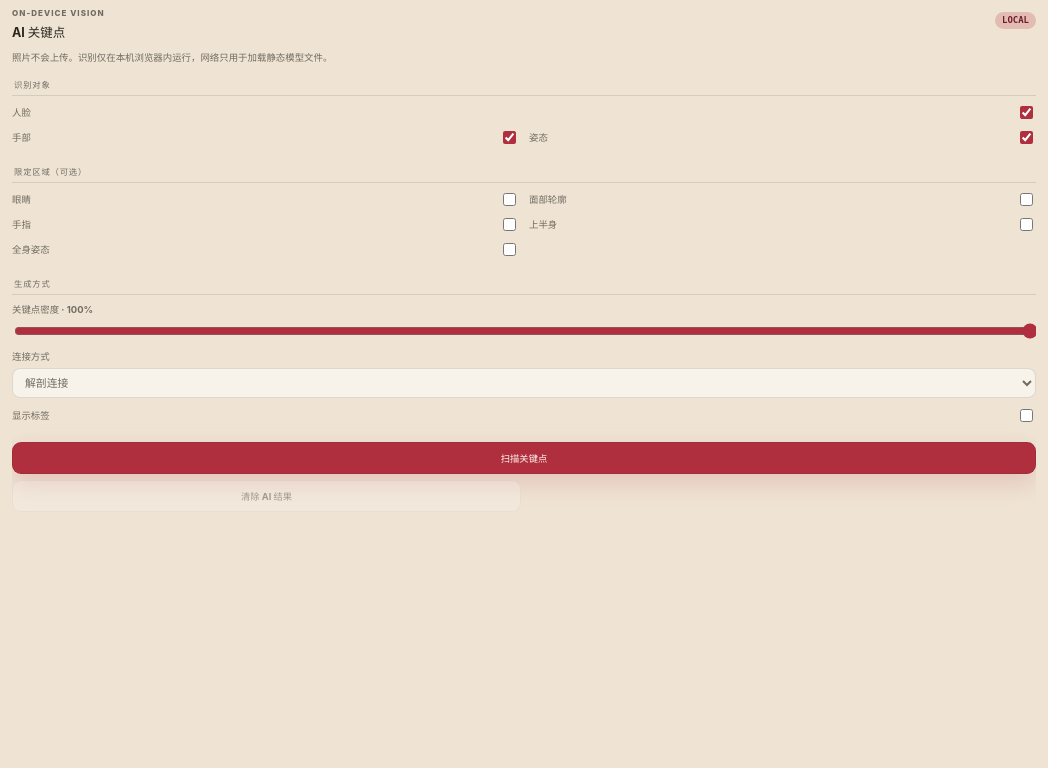
Test case: AI scan panel › shows loading, empty, failure, retry, and clear-result states
Later steps or results of the test are not shown.
Click the button "扫描关键点".
click(524, 458)  # box [12,442,1036,474]
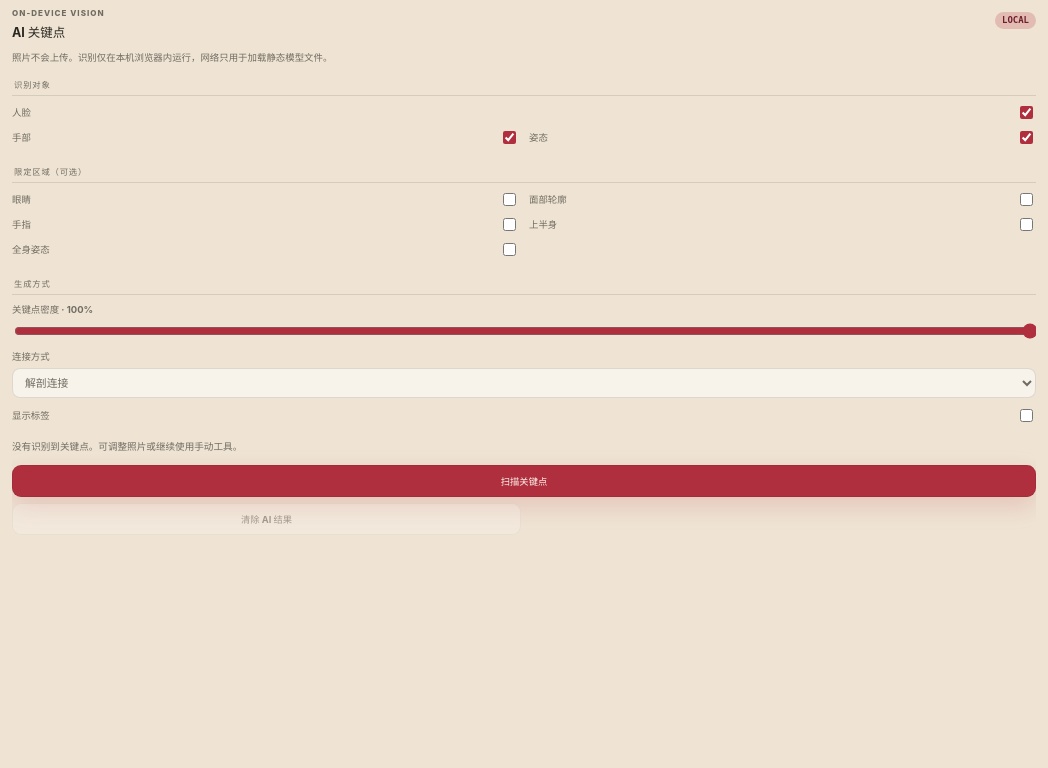
Check: the text "没有识别到关键点。可调整照片或继续使用手动工具。" is shown, box [12,441,242,452]
Click the button "扫描关键点".
click(524, 481)  # box [12,465,1036,497]
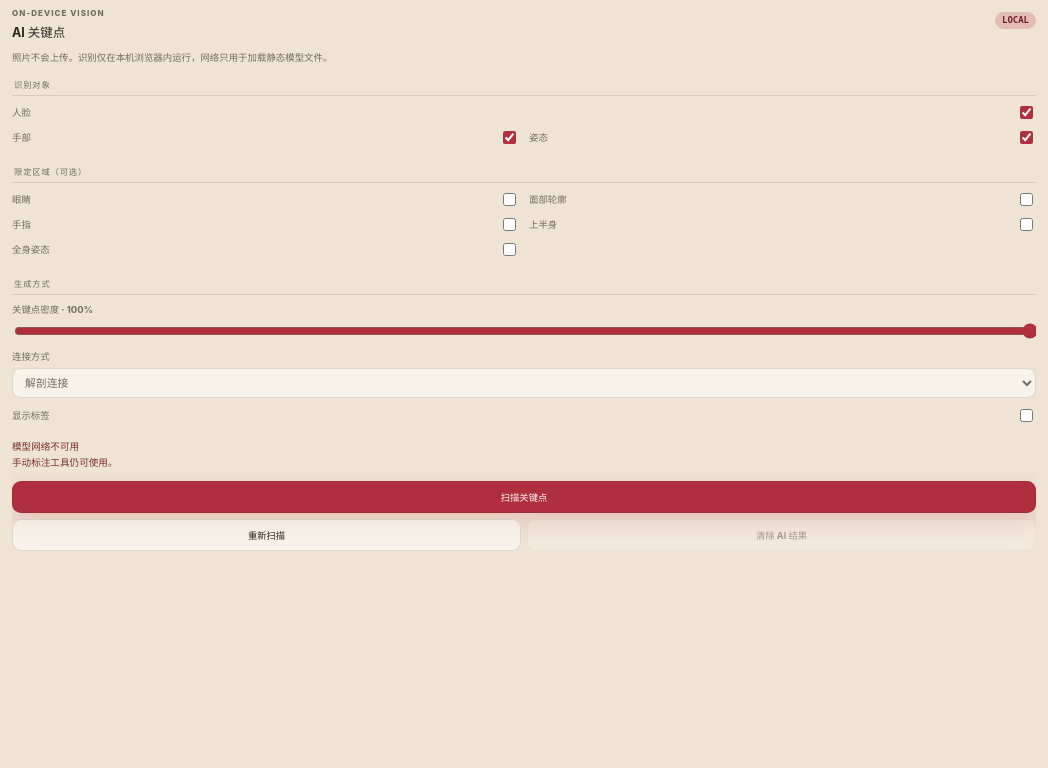
Check: the message shows "模型网络不可用", box [12,441,79,452]
Check: the text "手动标注工具仍可使用。" is shown, box [12,457,118,468]
Click the button "重新扫描".
click(266, 535)  # box [12,519,521,551]
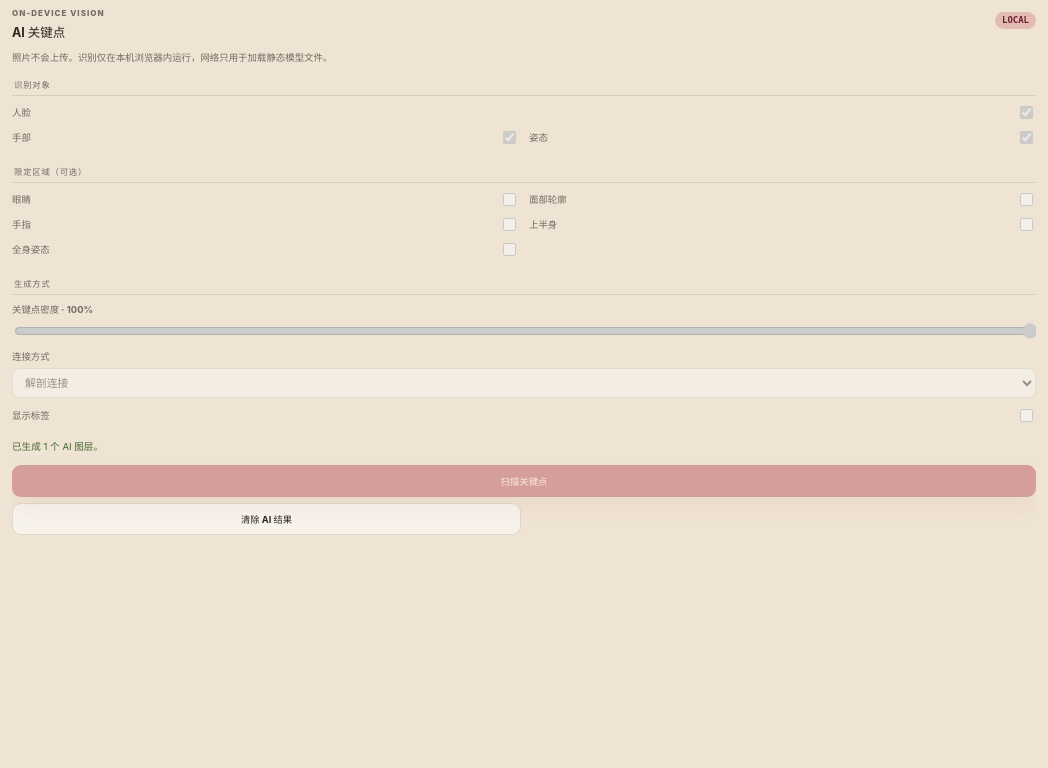
Check: the text "已生成 1 个 AI 图层。" is shown, box [12,441,103,452]
Check: the button "清除 AI 结果" is enabled
Click the button "清除 AI 结果".
click(266, 519)  # box [12,503,521,535]
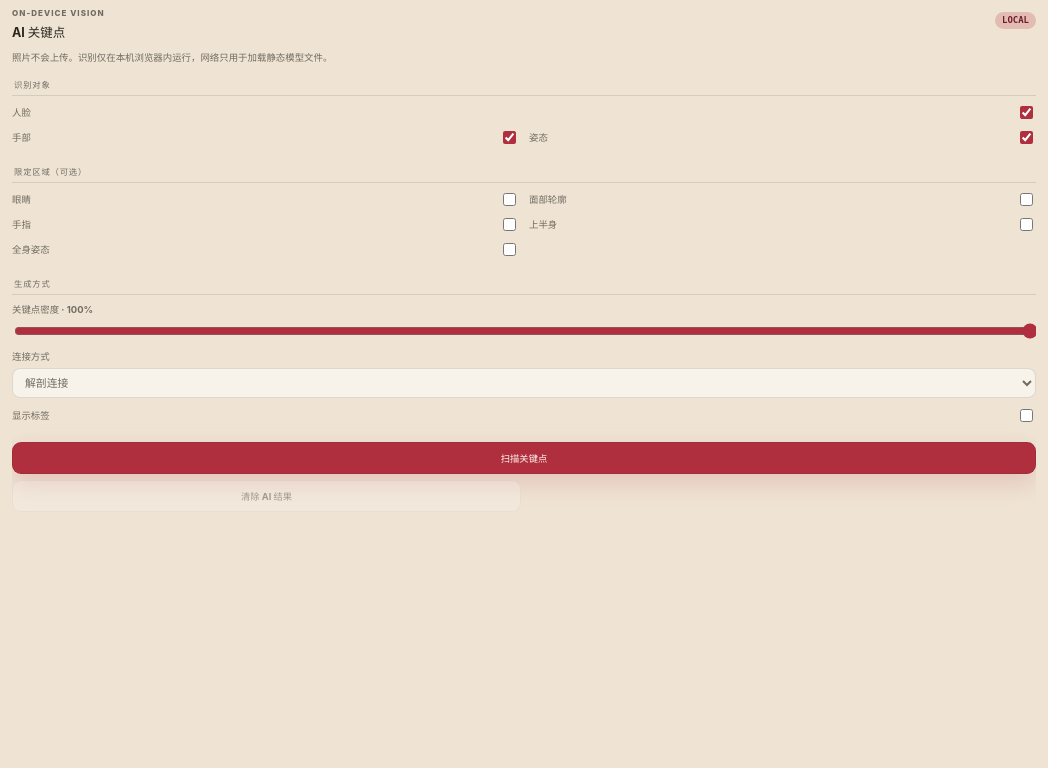
Check: the button "清除 AI 结果" is disabled, box [12,480,521,512]
